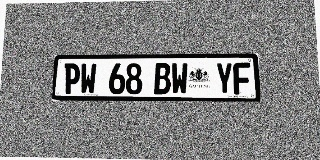6: (109, 63, 125, 94)
8: (126, 63, 142, 94)
B: (154, 63, 171, 94)
F: (233, 62, 251, 95)
P: (63, 63, 80, 94)
W: (80, 63, 97, 94), (171, 63, 188, 94)
Y: (215, 63, 233, 95)
